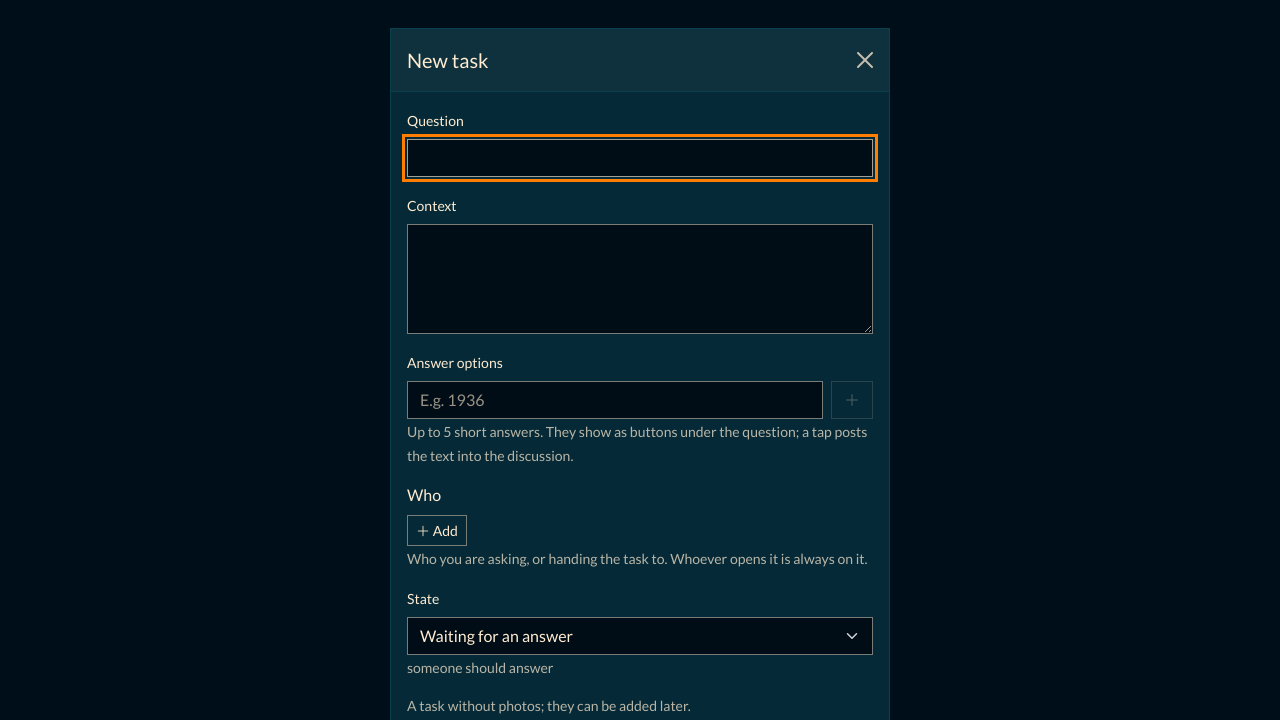
Test case: NewTaskModal › never offers the creator, who is on the task already
The width and height of the screenshot is (1280, 720).
Step 1. Click the button "Add" → [437, 530], box [407,515,467,546]
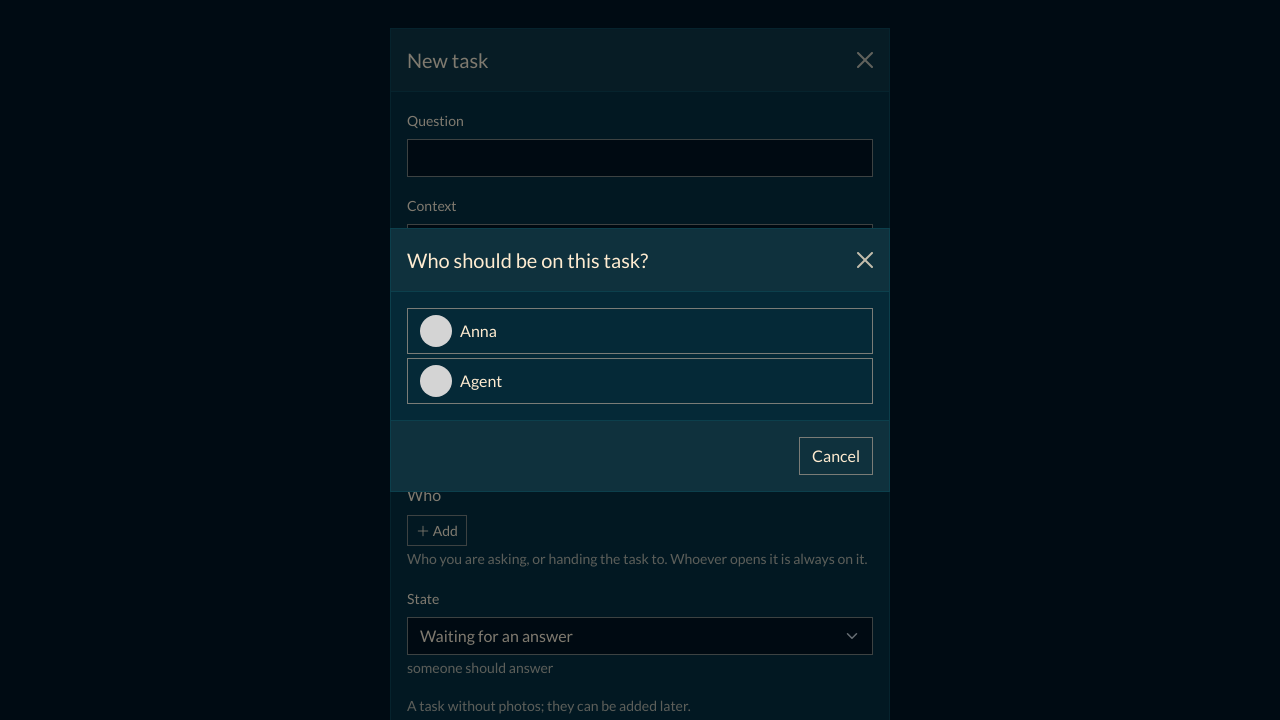
Result: the button "Anna" is shown at [407,308,873,354]
